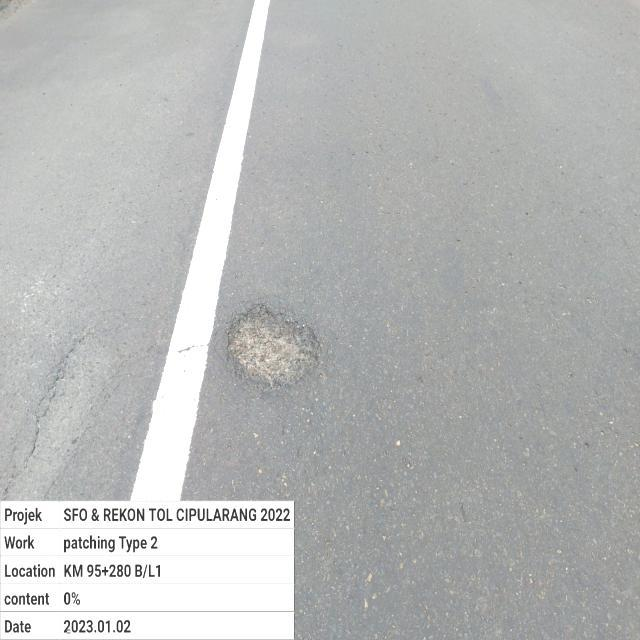Buraco: (222, 300, 325, 393)
